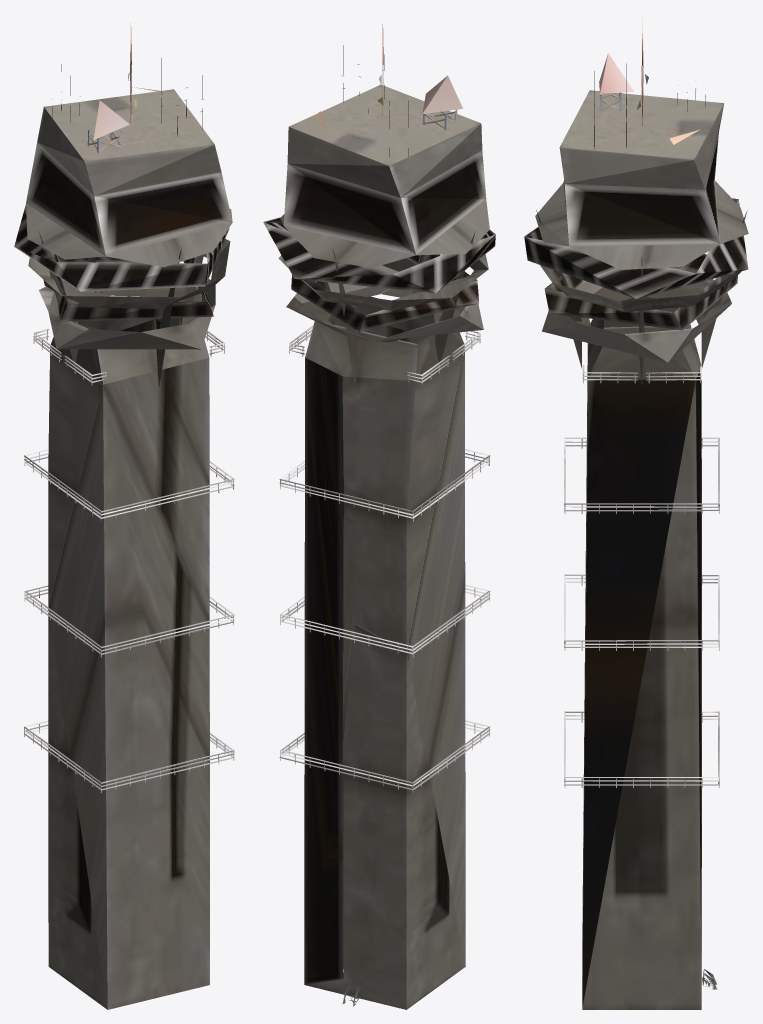
File: control_tower_lod1.glb
The picture shows the model from 3 angles, left to right: view 1: azimuth 30°, elevation 25°; view 2: azimuth 150°, elevation 25°; view 3: azimuth 270°, elevation 25°; orthographic projection.
Parts seen in each view (by area): view 1: control_tower; view 2: control_tower; view 3: control_tower.
Part boxes in pixels (<box>): control_tower: <box>14,23,234,1009</box>; control_tower: <box>263,24,495,1009</box>; control_tower: <box>524,16,748,1009</box>.
Bounding box in the file's own units: 18.49 × 89.97 × 18.78.
Materials: 1 (1 with a texture image).
